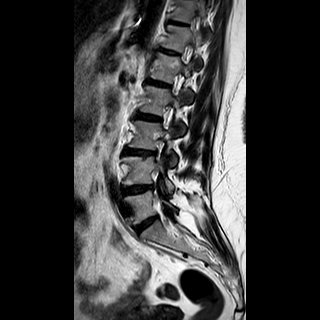LFS0: (154, 99, 178, 133), (148, 131, 171, 165), (166, 67, 187, 100)
